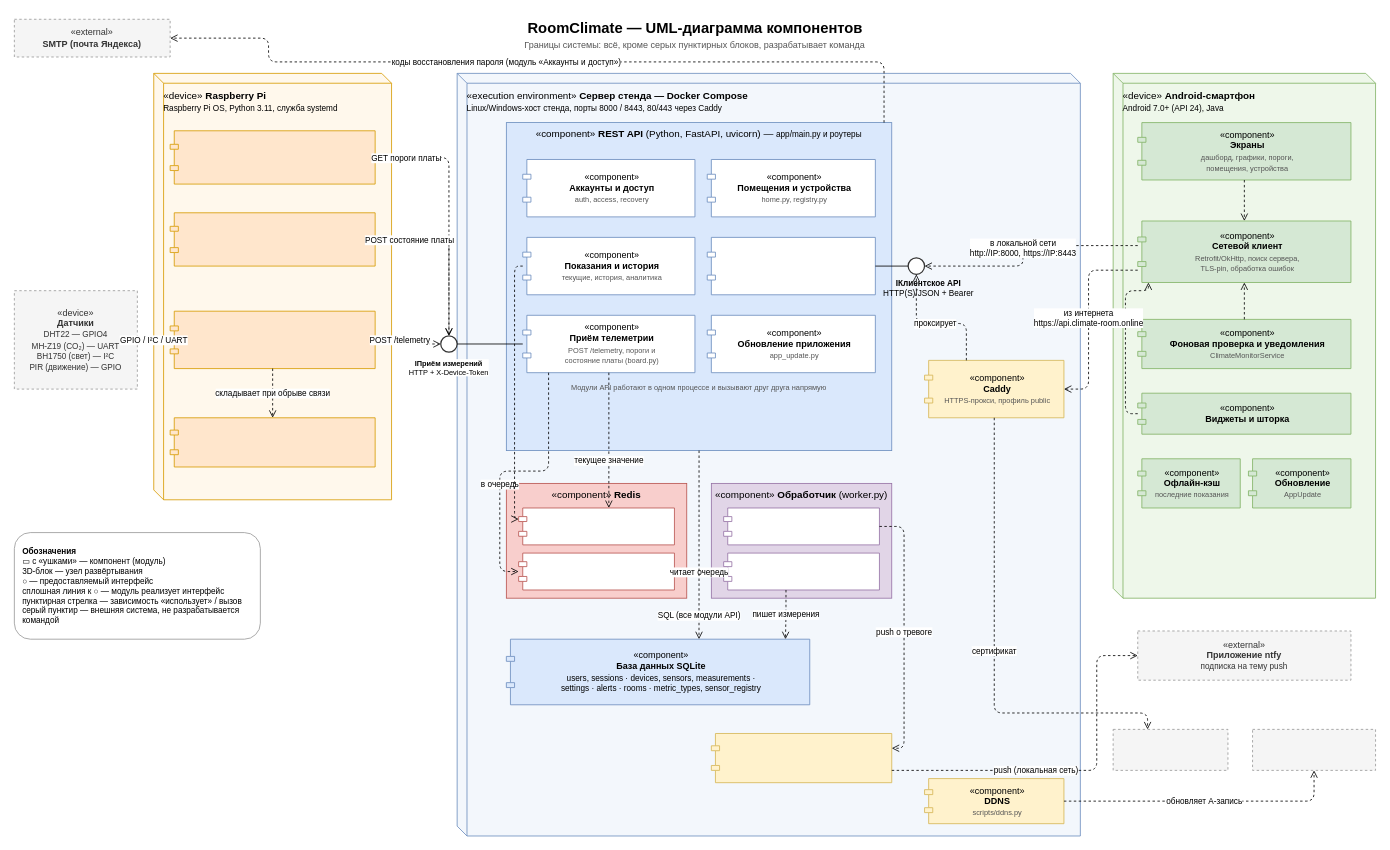
Some shapes in this 1390 by 850 pixel diagram are drawn without their labels. Here are the shapes that lost their labels. From the top down, the centre of each, then its label:
At point 272,157: "«component» Сигнал на плате alarm.py: светодиод, пищалка".
At point 272,239: "«component» Состояние платы board_status.py".
At point 790,266: "«component» Пороги GET/PUT /settings".
At point 272,339: "«component» Сборщик показаний collector.py, extra_sensors.py".
At point 272,442: "«component» Буфер без связи buffer.py".
At point 596,526: "«component» Текущие значения ключи current, TTL 60 с".
At point 801,526: "«component» Проверка порогов alerts.py: задержка, гистерезис".
At point 596,571: "«component» Очередь измерений Redis Stream".
At point 801,571: "«component» Запись в историю".
At point 801,758: "«component» ntfy push-сервер стенда (порт 8090)".
At point 1170,749: "«external» Let's Encrypt".
At point 1314,749: "«external» Cloudflare DNS".
